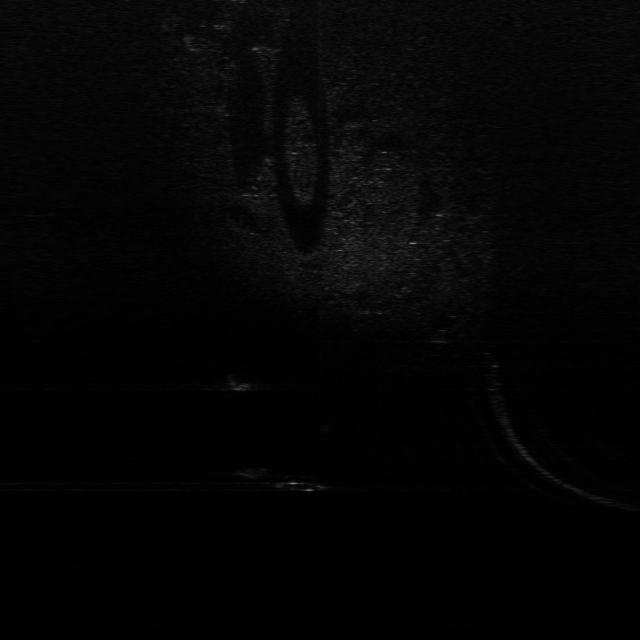cube: (230, 463, 270, 480)
square cage: (223, 372, 261, 392)
tyre: (262, 472, 329, 494)
